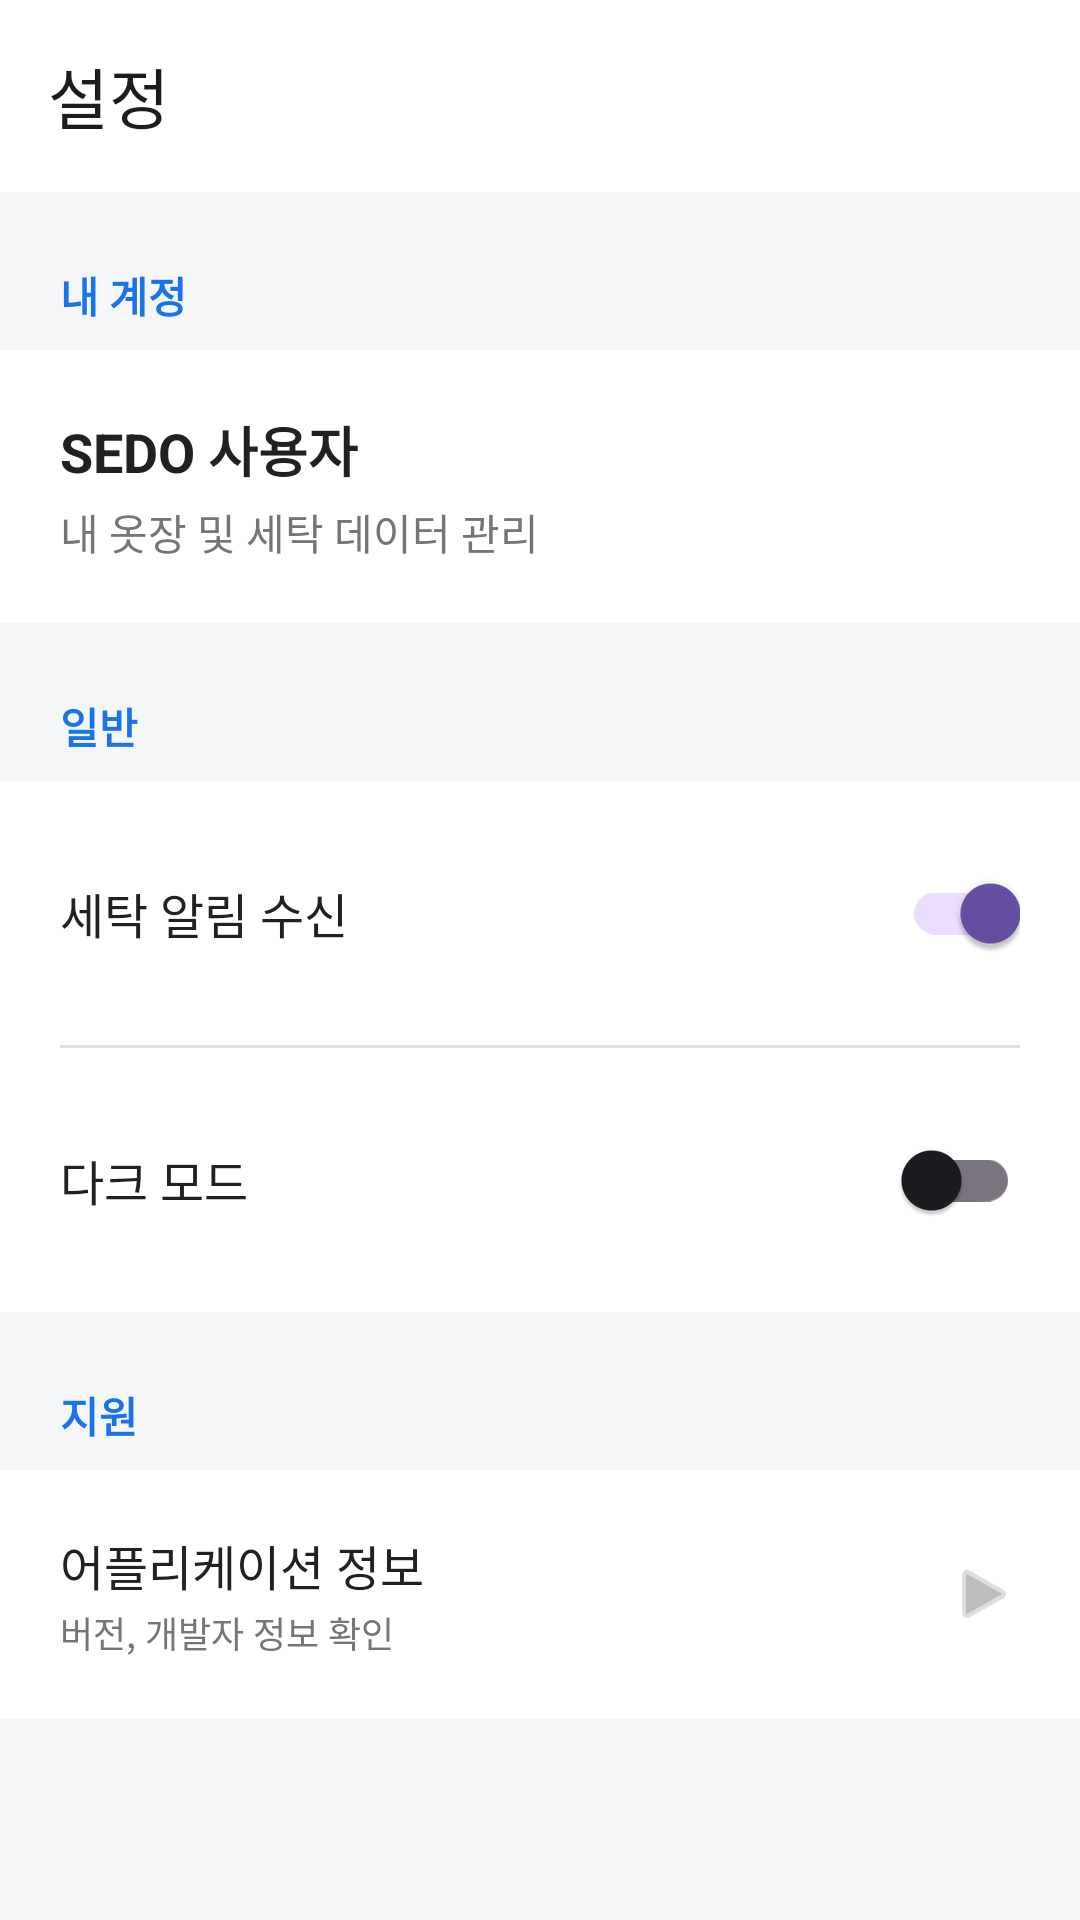

Icon click points for this 1080 × 1920 phone screenshot, format (x=x, y=y):
play: (x=984, y=1594)
